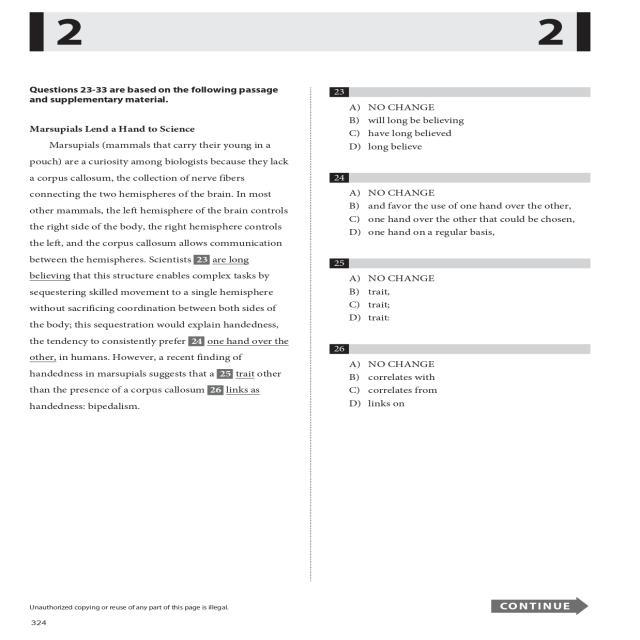Answer_Block: (322, 272, 598, 334), (320, 357, 596, 417), (322, 98, 598, 156), (322, 187, 598, 244)
Instruction: (25, 80, 305, 582)
Question_Answer_Block: (322, 252, 598, 334), (320, 338, 596, 417), (322, 80, 598, 156), (322, 171, 598, 245)
Question_Block: (322, 79, 598, 97), (322, 253, 598, 271), (320, 338, 596, 356), (322, 171, 598, 186)
Question_Paper_Area: (25, 80, 305, 582), (322, 79, 598, 584)
